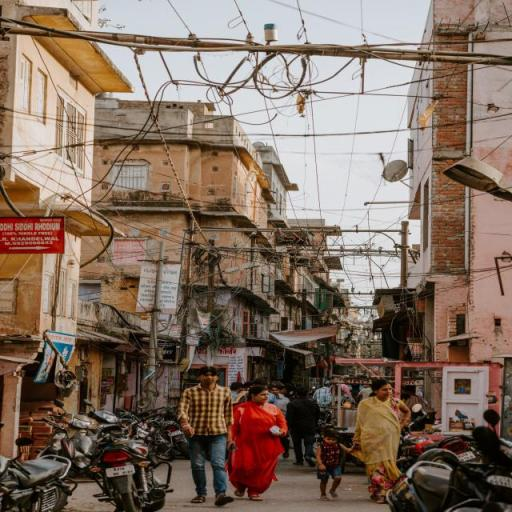Persona: (178, 364, 229, 506), (348, 382, 410, 497), (230, 384, 288, 502)
